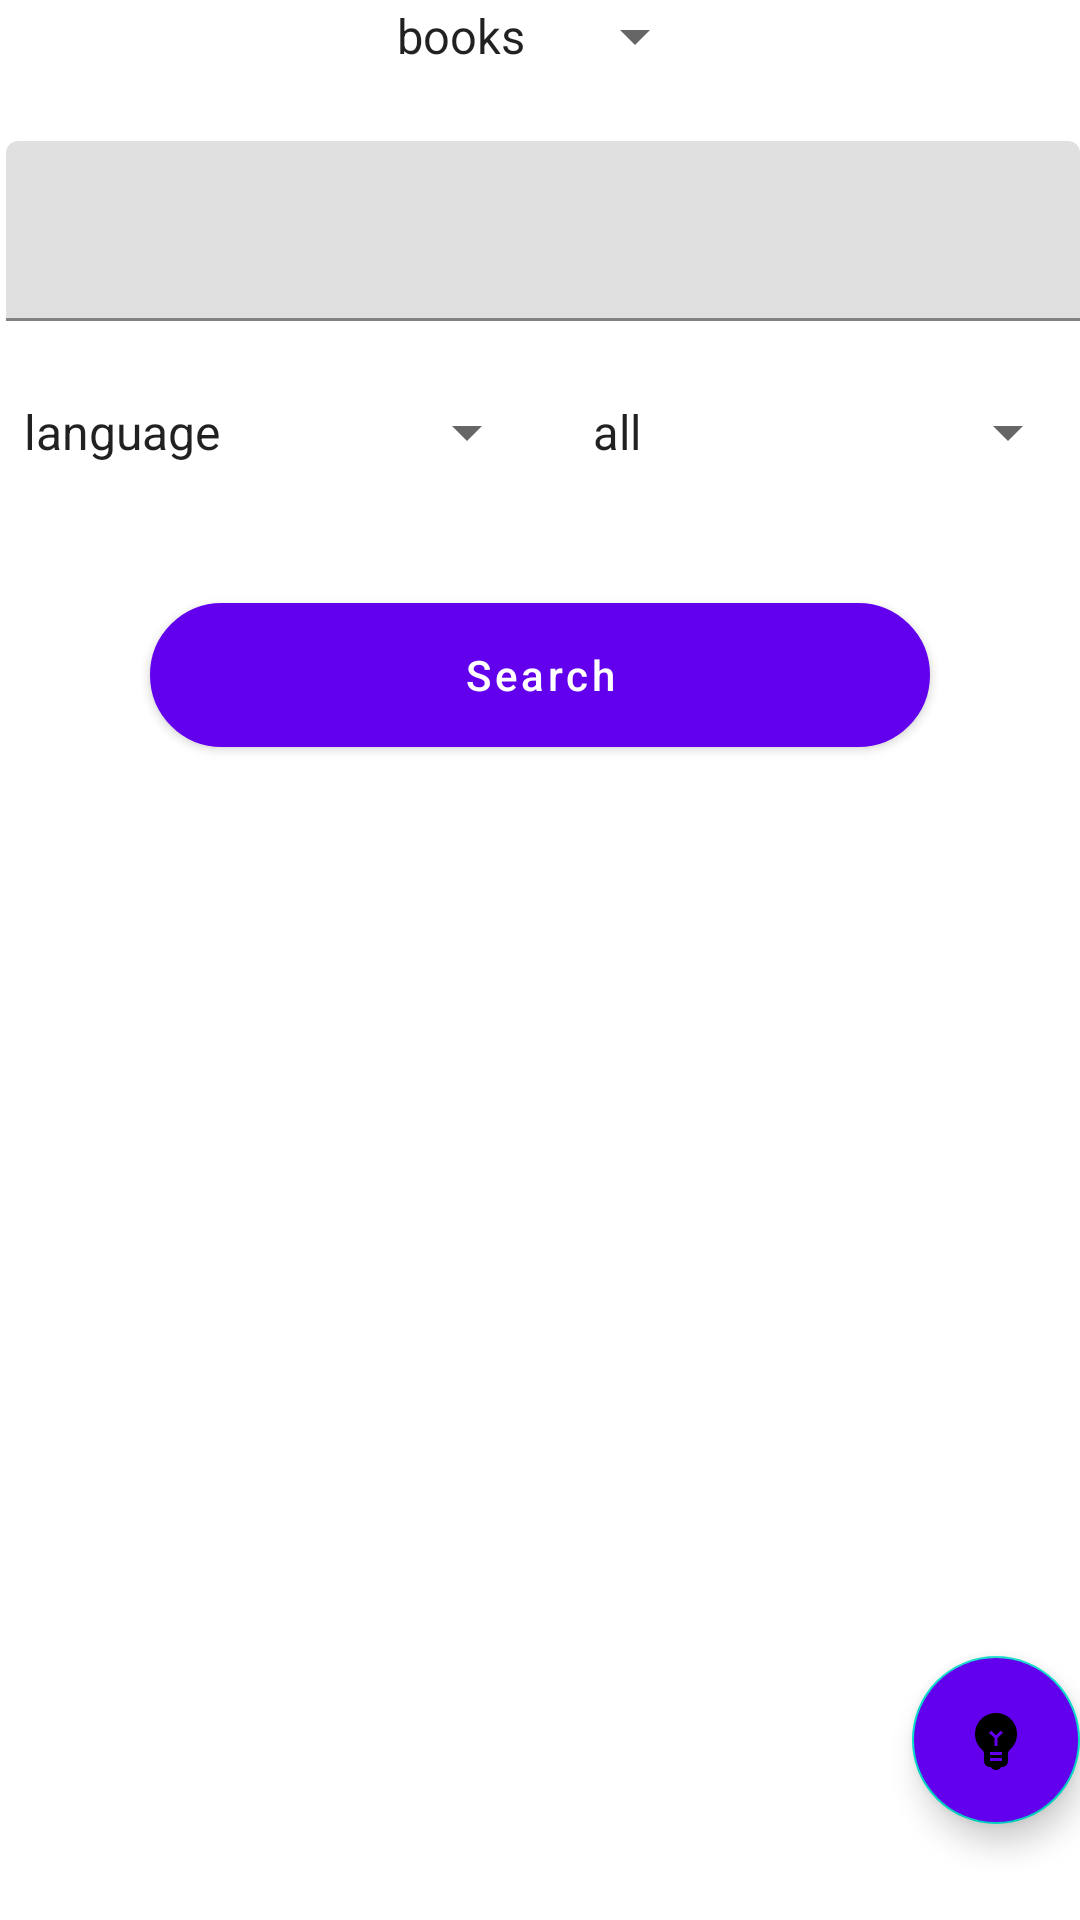

Where to tap for icons on this 1080w x 1920h app screen, as point (x, y):
lamp: point (996, 1740)
